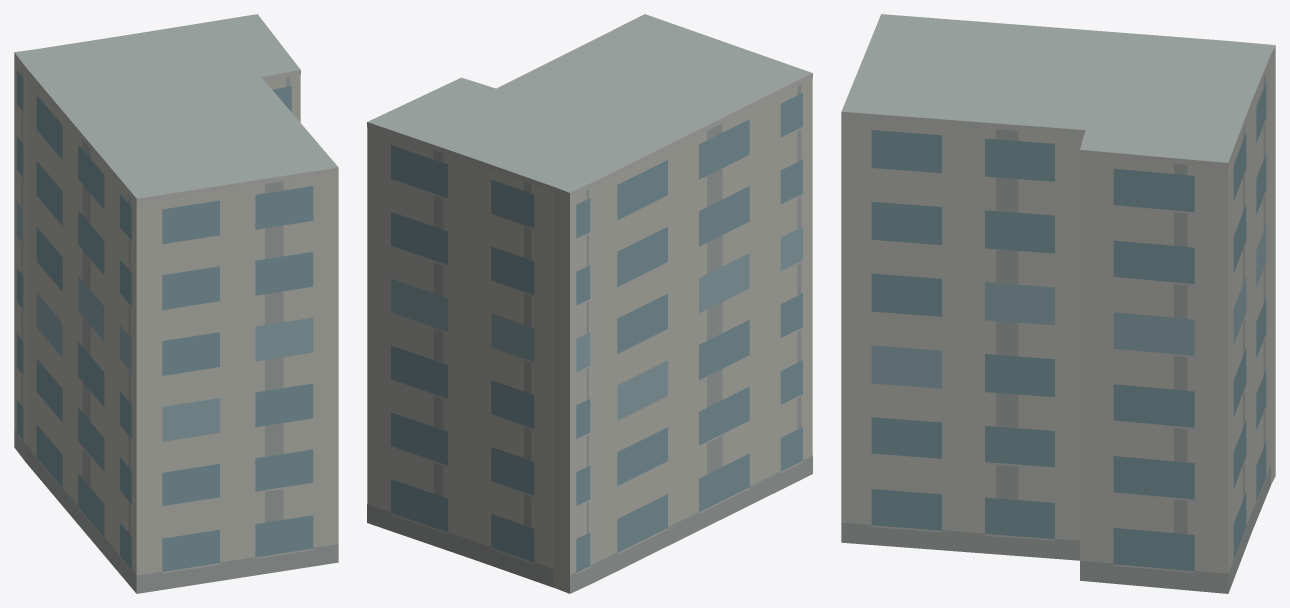
File: survey-upis-32777479.glb
The picture shows the model from 3 angles, left to right: view 1: azimuth 30°, elevation 25°; view 2: azimuth 150°, elevation 25°; view 3: azimuth 270°, elevation 25°; orthographic projection. The views are drawn at different scales.
Parts seen in each view (by area): view 1: survey-upis-32777479.tmp; view 2: survey-upis-32777479.tmp; view 3: survey-upis-32777479.tmp.
Boxes of the visible parts, x1,y1,x2,y2 form: survey-upis-32777479.tmp: (14, 14, 338, 593); survey-upis-32777479.tmp: (367, 14, 812, 593); survey-upis-32777479.tmp: (841, 14, 1275, 593).
Size of the model in its own units: 13.58 by 18.3 by 16.72.
